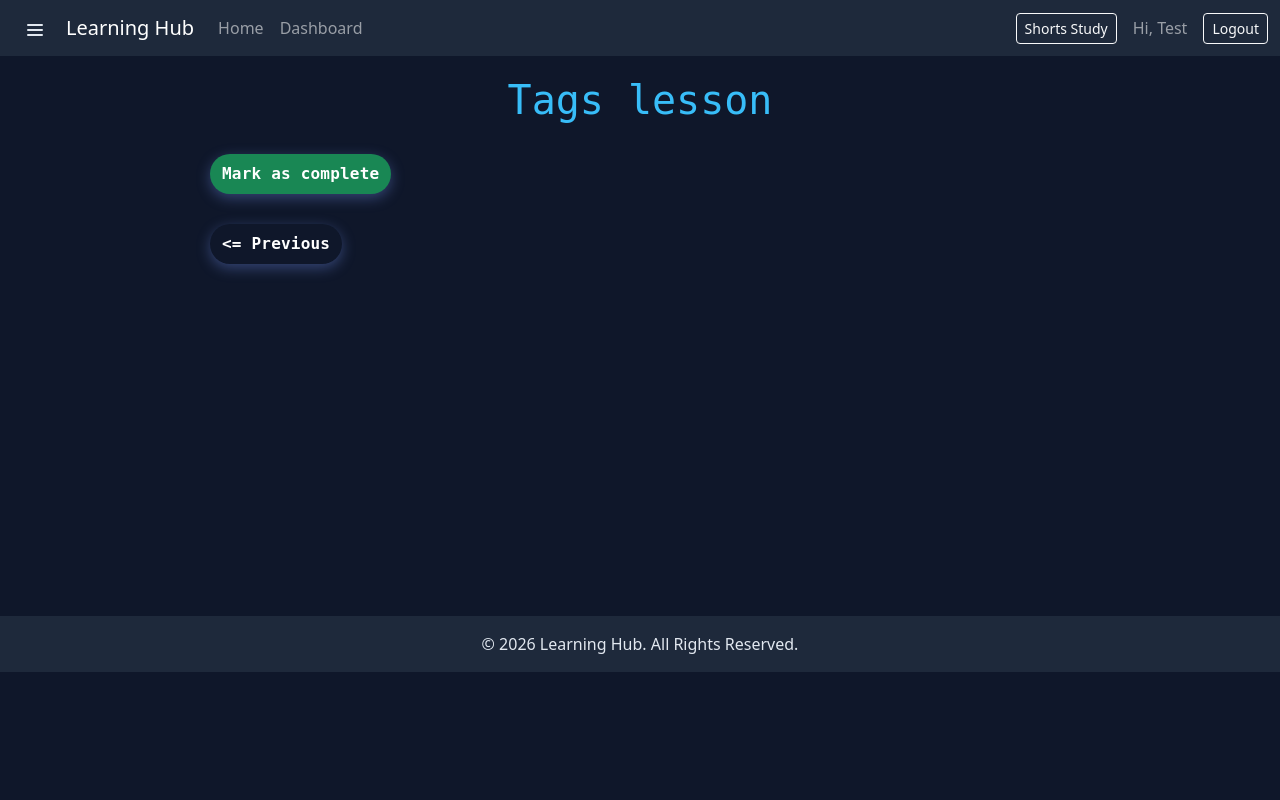
Test case: progress in the lesson pages › shows no reward when the server says it was already completed
Click the button "Mark as complete" at (301, 174), box [210, 154, 391, 194]
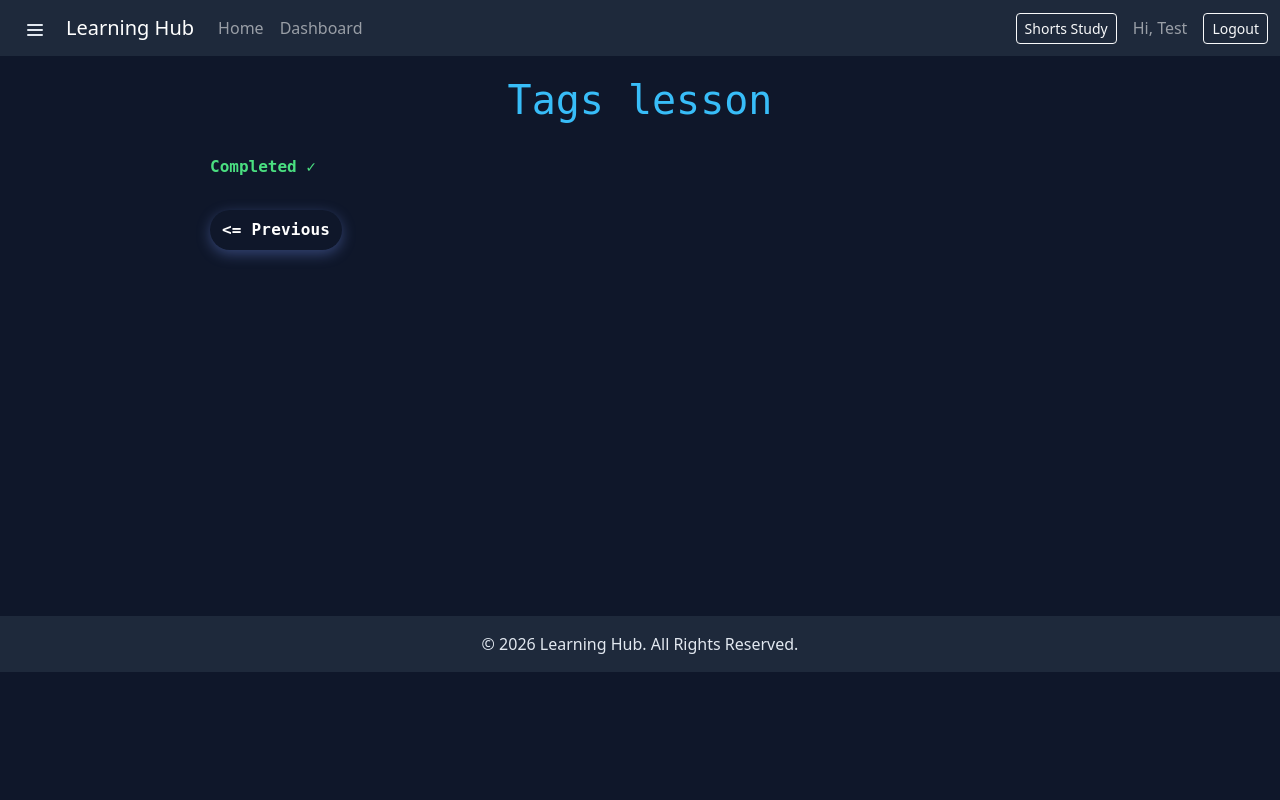
Check: the text "Completed ✓" is shown, box [210, 154, 316, 180]
